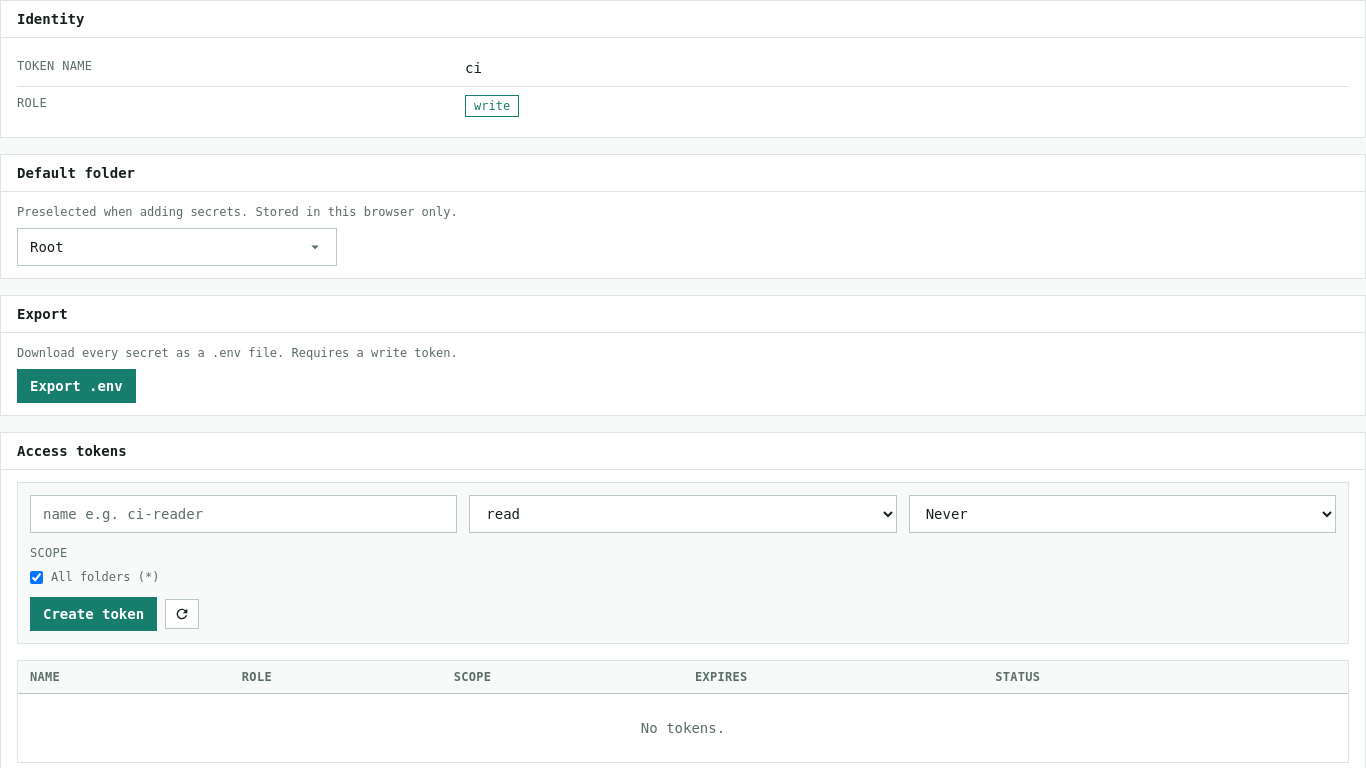
it: Settings one-time token modal (Back guard) › Back before copying asks first; the token is not lost
Step 1. Type "ci-reader" into the field with placeholder "name e.g. ci-reader" → (244, 514), box [30, 495, 457, 533]
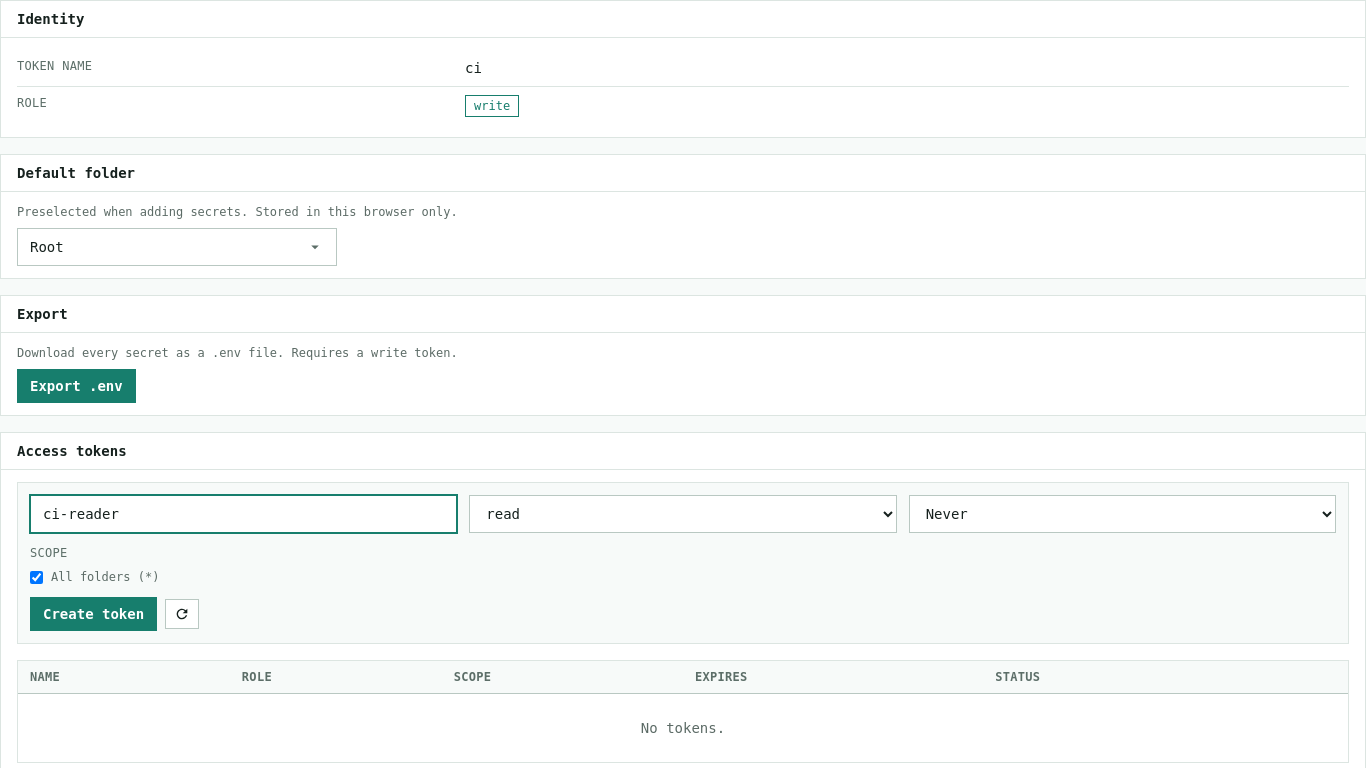
Step 2. Click the button "Create token" → (94, 614), box [30, 597, 157, 631]
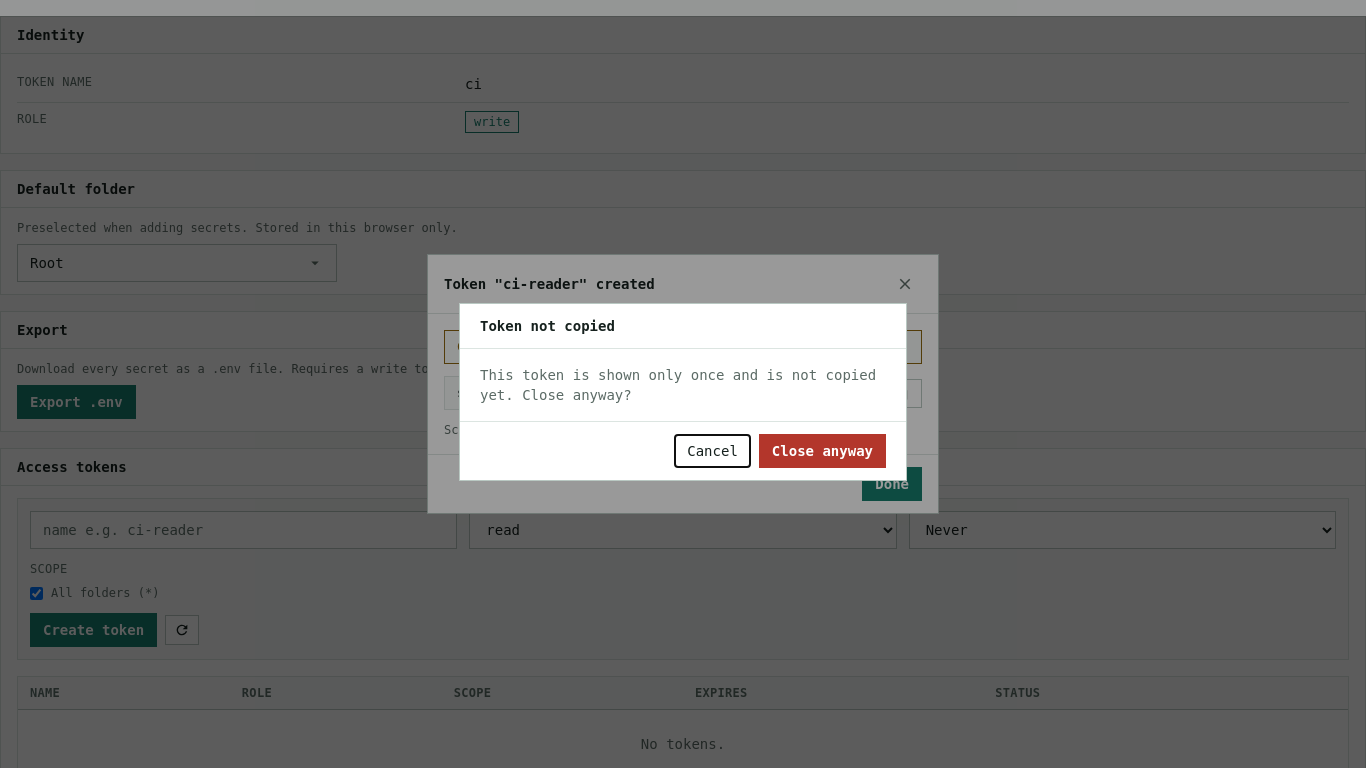
Expected: the text "Copy this now — it is shown only once." is shown, [444, 330, 922, 364]
Expected: the heading "Token not copied" is shown, [480, 318, 615, 334]
Expected: the text "sm_secret_value" is shown, [444, 376, 873, 410]
